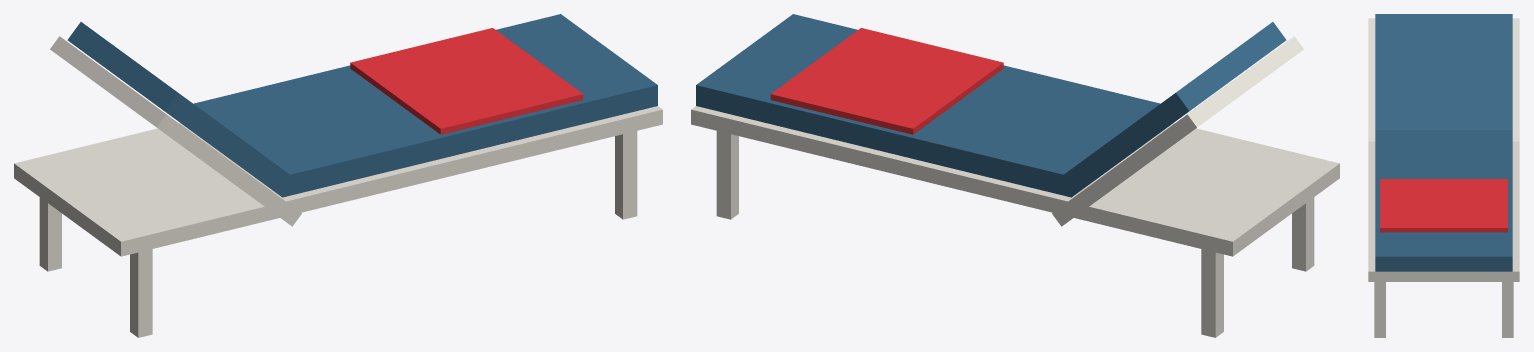
The model's file is pool_lounger.glb.
3 views of the same model, side by side, from view 1: azimuth 30°, elevation 25°; view 2: azimuth 150°, elevation 25°; view 3: azimuth 270°, elevation 25° (orthographic). The views are drawn at different scales.
Visible parts, largest first — view 1: pool_lounger; view 2: pool_lounger; view 3: pool_lounger.
Boxes of the visible parts, x1,y1,x2,y2 form: pool_lounger: (14, 14, 662, 337); pool_lounger: (691, 14, 1339, 337); pool_lounger: (1368, 14, 1519, 337).
Bounding box in the file's own units: 1.9 × 0.7869 × 0.65.
